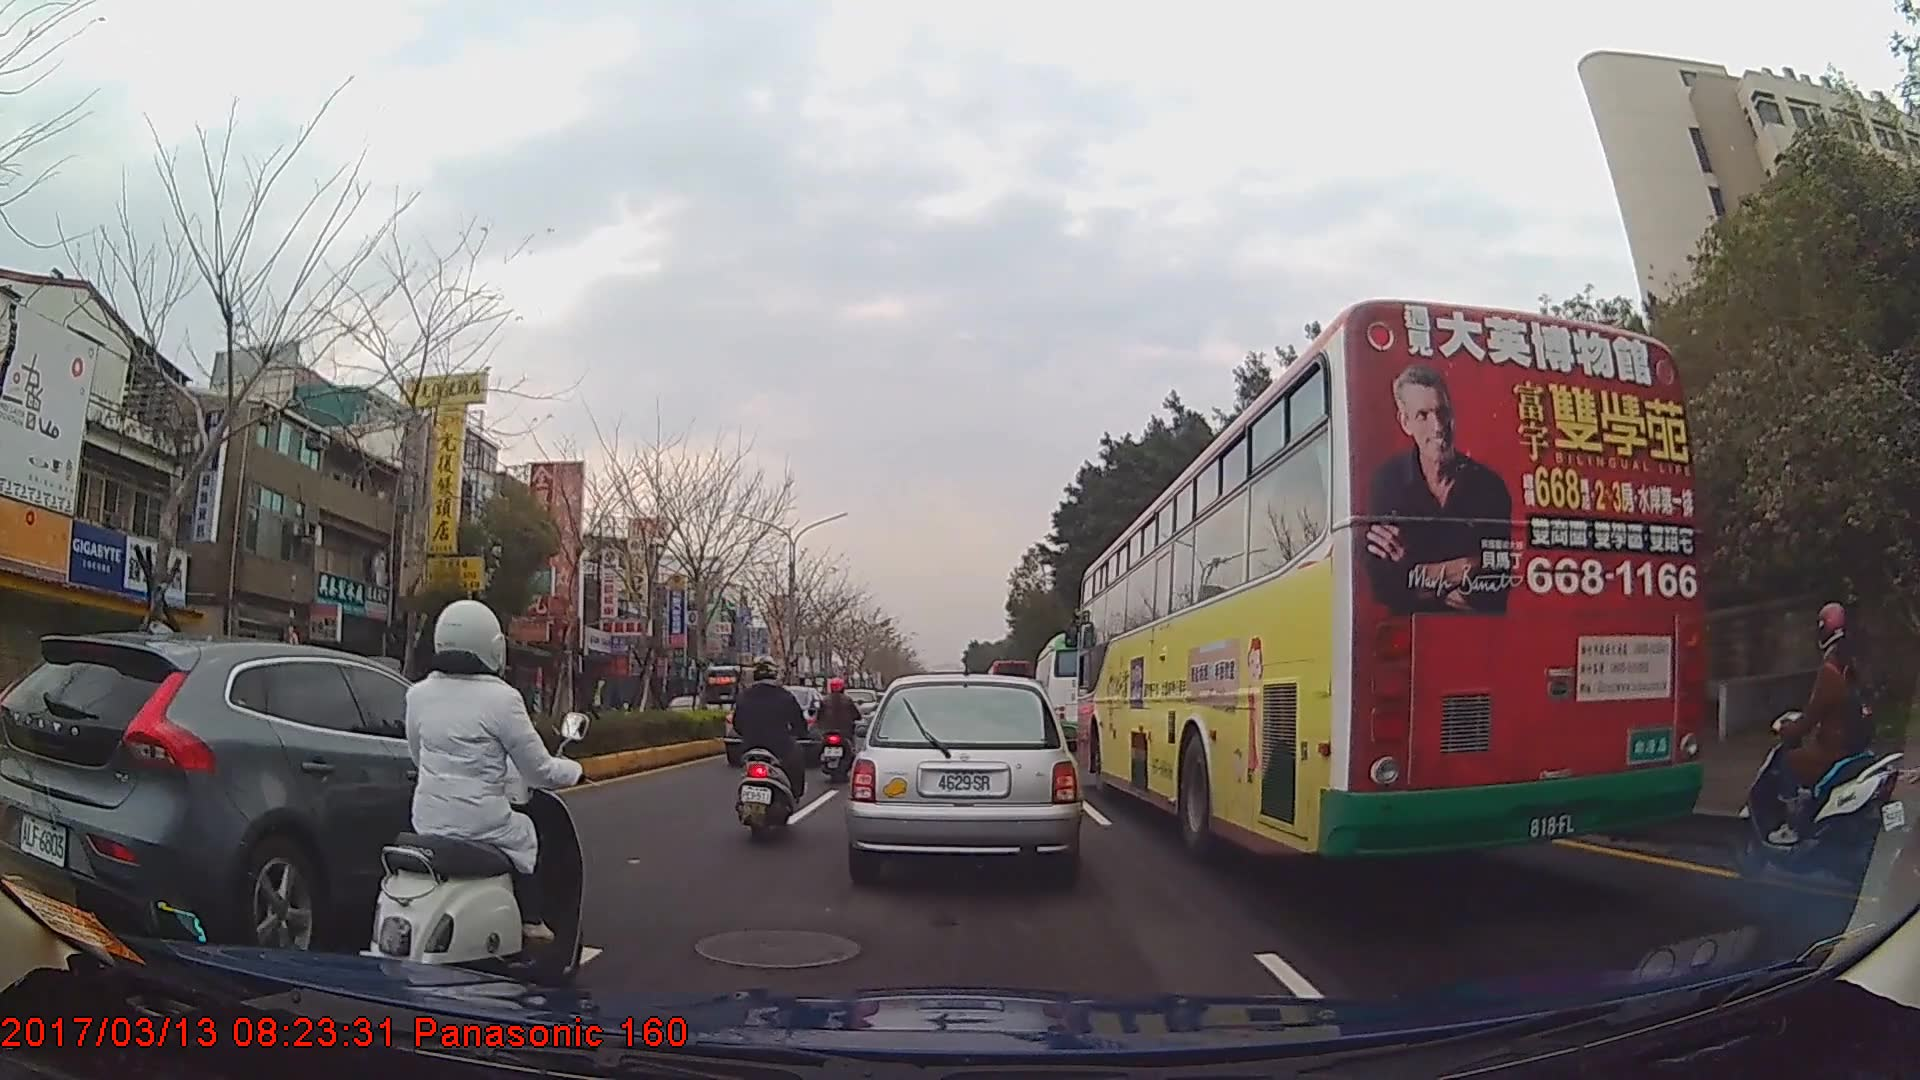rider: (359, 592, 593, 993), (1719, 601, 1908, 880), (730, 656, 809, 843), (815, 678, 861, 783)
vehicle: (1075, 296, 1707, 863), (0, 634, 558, 962), (847, 671, 1078, 884), (1030, 629, 1119, 748), (718, 685, 823, 767), (698, 663, 764, 729)
